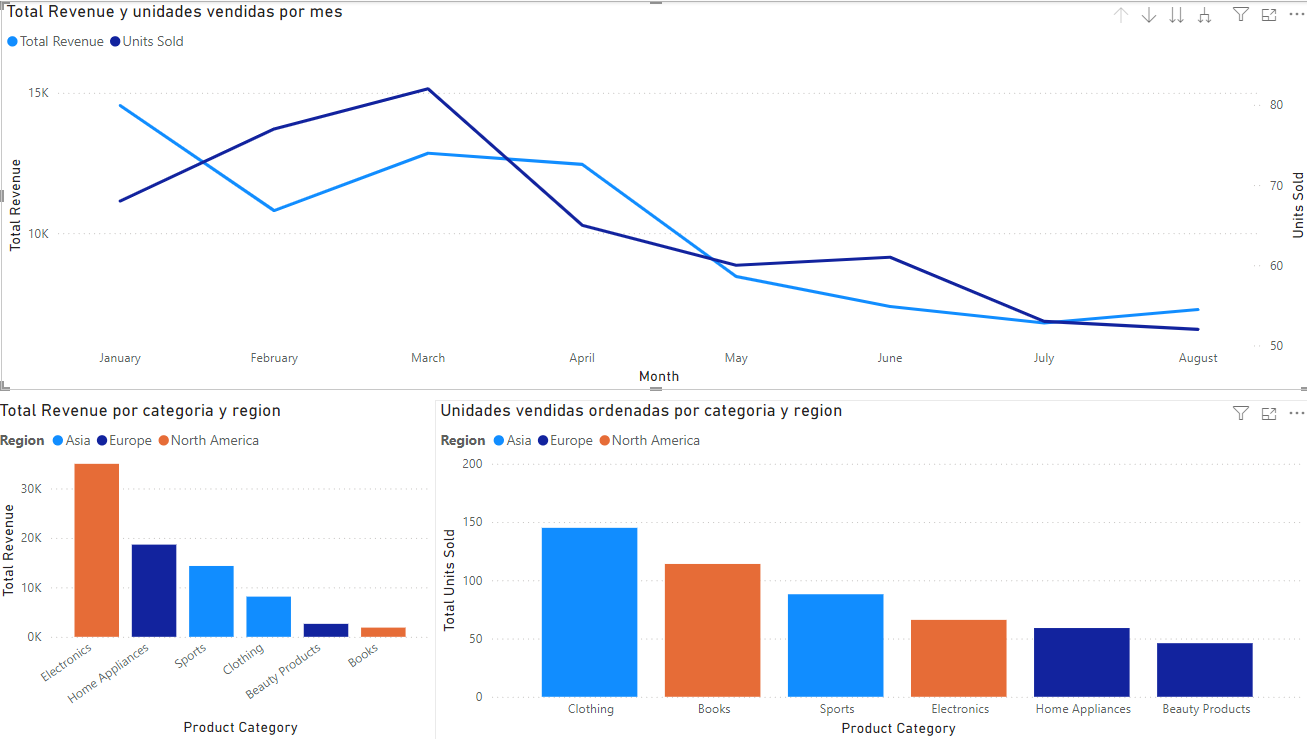

The page's visual inventory and layout, read from the dashboard file:
{"tool":"powerbi","page":{"name":"Page 1","canvas":[1280,720],"ordinal":0},"visuals":[{"type":"lineChart","title":"Total Revenue y unidades vendidas por mes","fields":{"Y":["Sum(Online Sales Data.Total Revenue)"],"Category":["Online Sales Data.Date.Variation.Date Hierarchy.Month","Online Sales Data.Date.Variation.Date Hierarchy.Day"],"Y2":["Sum(Online Sales Data.Units Sold)"]},"box":[6.8,0,1273.2,378.4],"z":0},{"type":"columnChart","title":"Total Revenue por categoria y region","fields":{"Category":["Online Sales Data.Product Category"],"Y":["Sum(Online Sales Data.Total Revenue)"],"Series":["Online Sales Data.Region"]},"box":[0,388.1,428.9,331.7],"z":1000},{"type":"columnChart","title":"Unidades vendidas ordenadas por categoria y region","fields":{"Category":["Online Sales Data.Product Category"],"Y":["Sum(Online Sales Data.Units Sold)"],"Series":["Online Sales Data.Region"]},"box":[429.2,387.2,850.5,332],"z":2000}]}

Visuals, with their boxes in screenshot pixels (x1, y1, x2, y2), scaled from the page's 1280x720 canvas onto the 1307x739 screenshot:
"Total Revenue y unidades vendidas por mes" lineChart: l=7, t=0, r=1306, b=388
"Total Revenue por categoria y region" columnChart: l=0, t=398, r=438, b=738
"Unidades vendidas ordenadas por categoria y region" columnChart: l=438, t=397, r=1306, b=738
